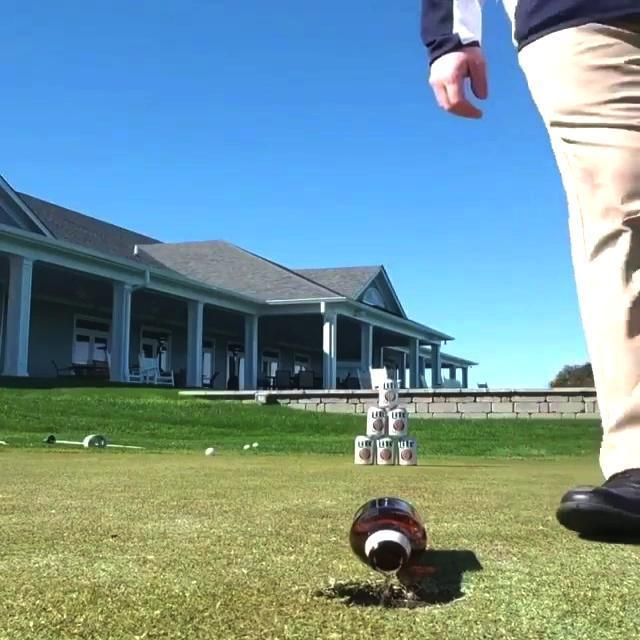GolfBall: (204, 447, 216, 455), (252, 442, 260, 448), (243, 444, 250, 449)
